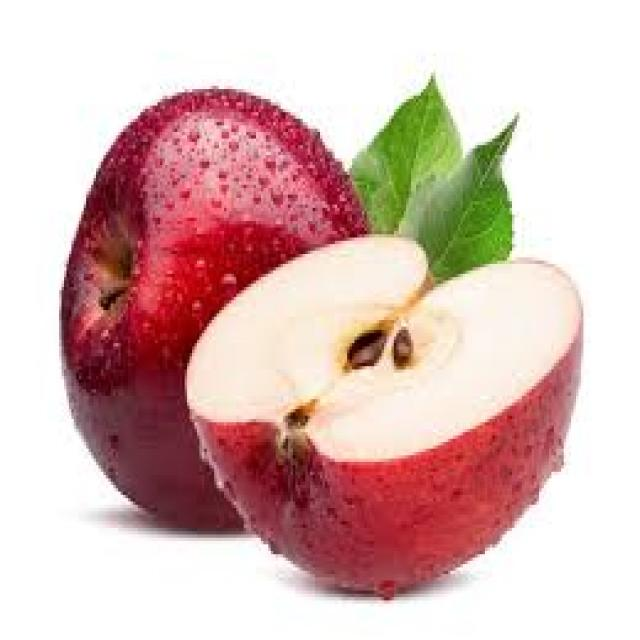Apple: (187, 236, 586, 594), (59, 90, 371, 528)
